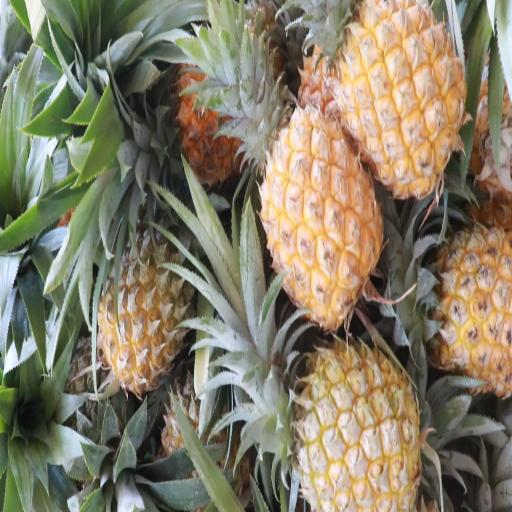Pineapple - v8 v1: (249, 105, 383, 326), (325, 1, 467, 201), (271, 334, 419, 512), (386, 227, 512, 389), (98, 205, 188, 395)
